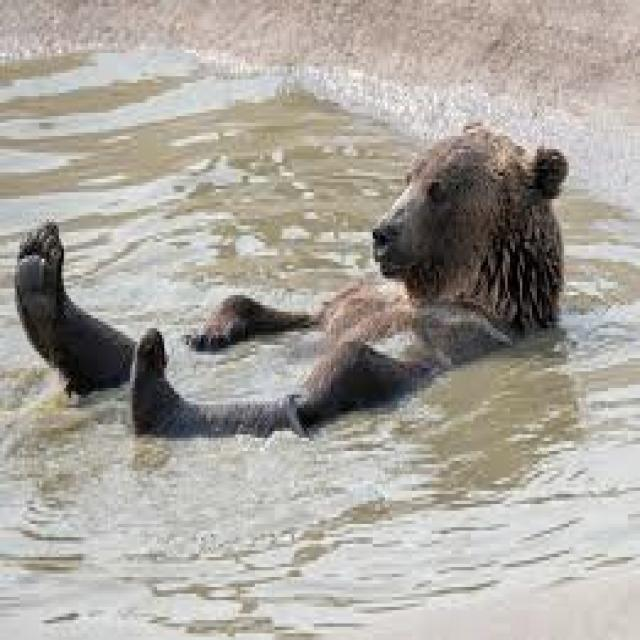bear: (17, 123, 566, 431)
